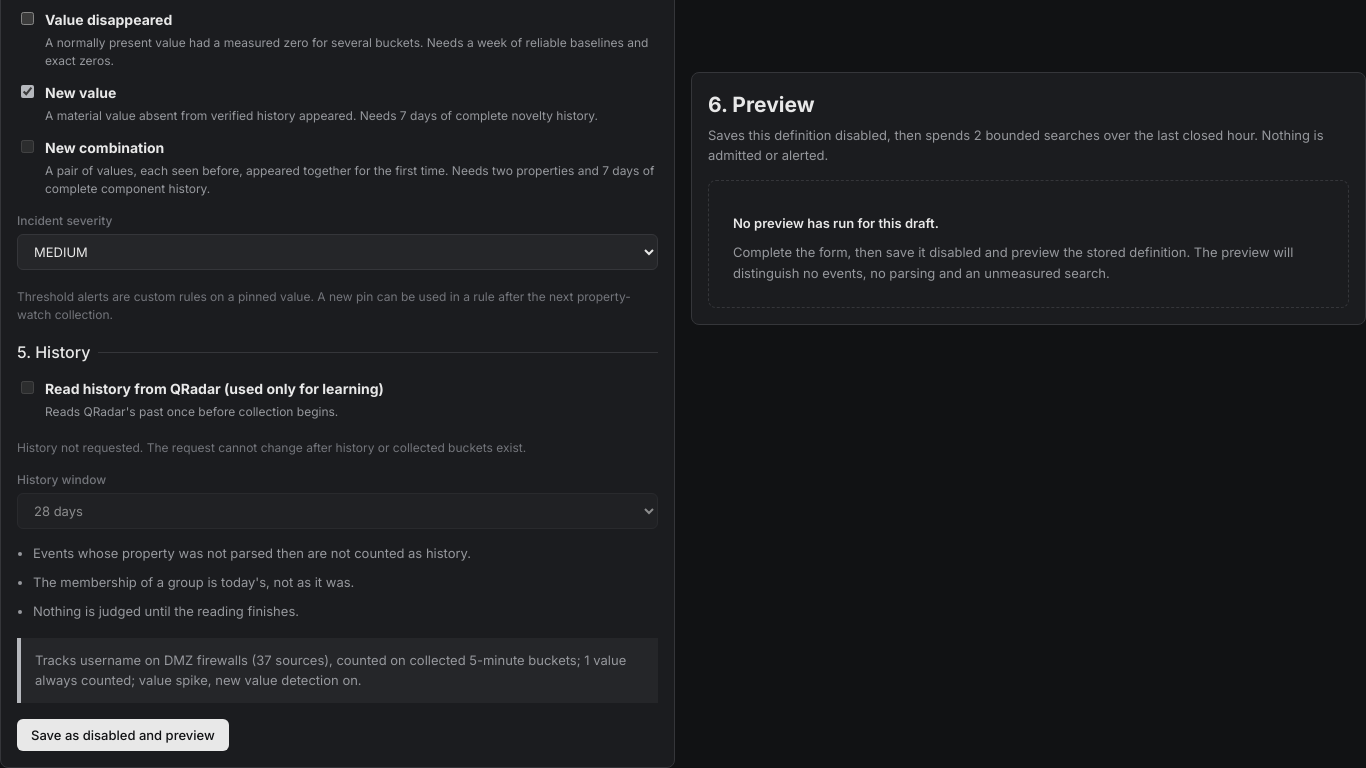
Test: property-watch save and preview › designs the not applicable empty preview
(page scrolled)
Click the button "Save as disabled and preview". click: click(123, 735)
box: [17,719,229,751]
(page scrolled)
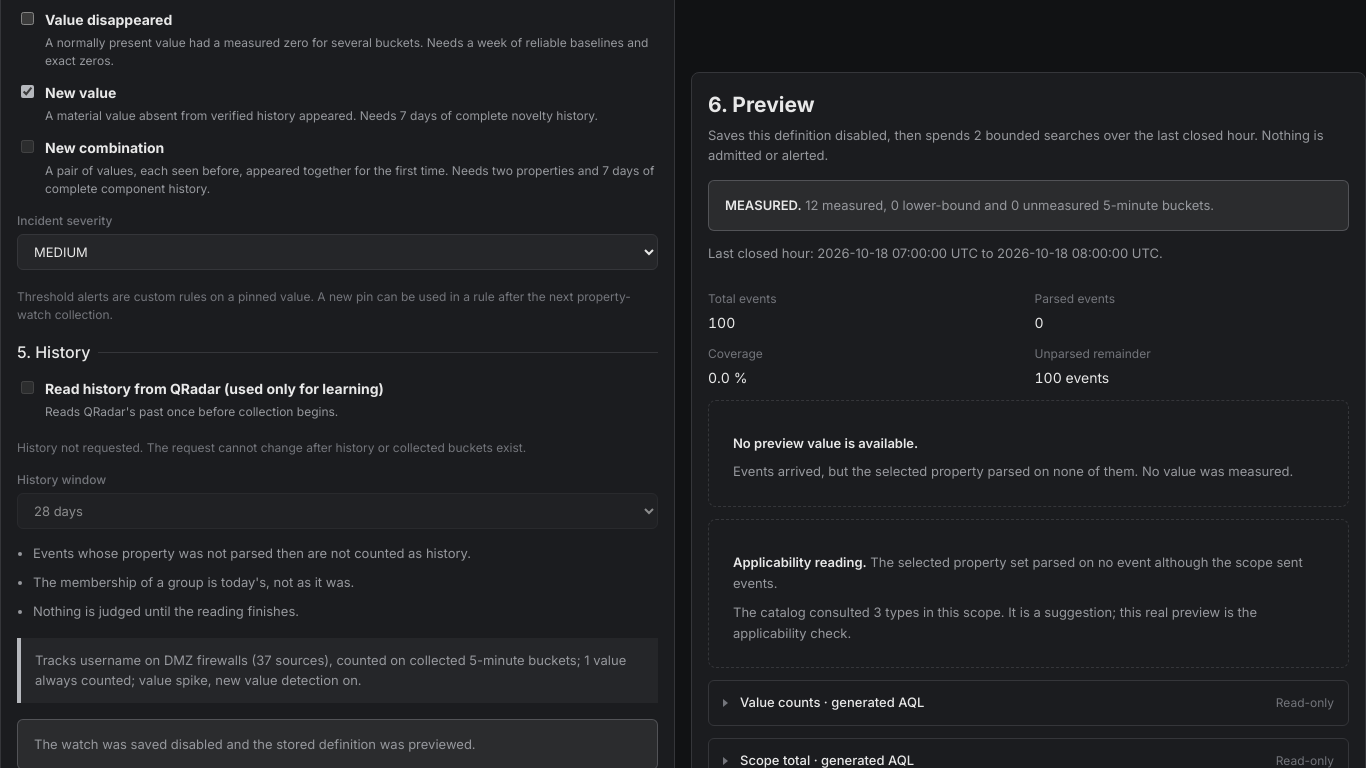
Expected: the text "parsed on none" is shown, [733,464,1293,480]
